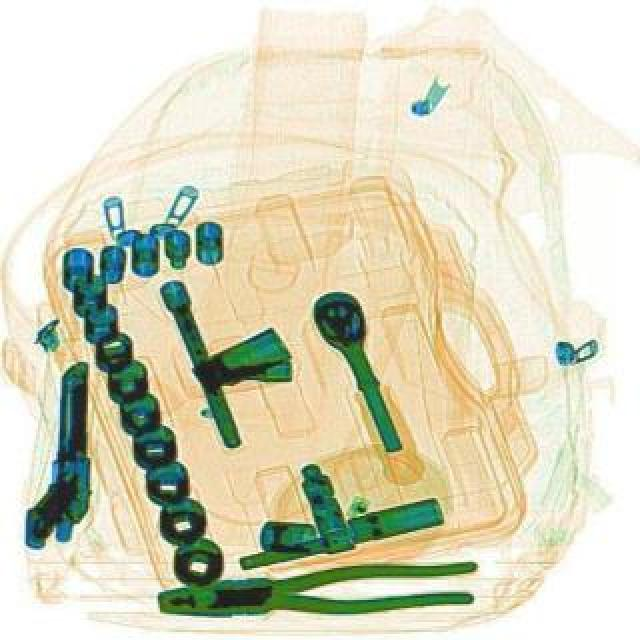gun: (22, 362, 92, 548)
wrench: (154, 556, 478, 628)
